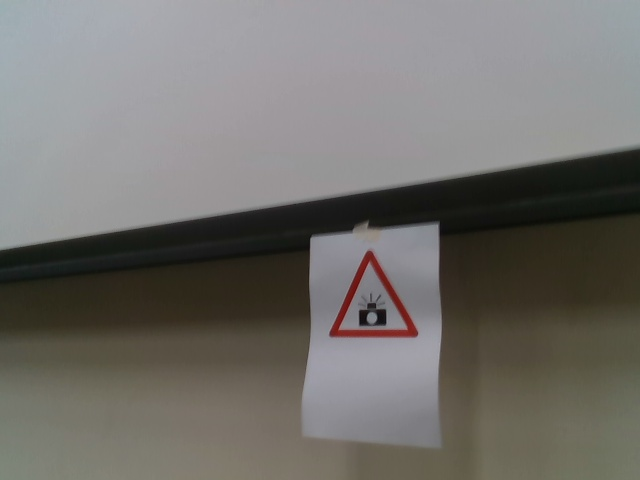camera: (328, 247, 422, 344)
